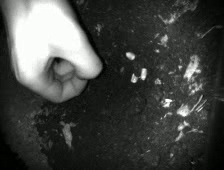corn: (128, 71, 140, 86), (123, 49, 137, 61), (139, 65, 148, 81)
